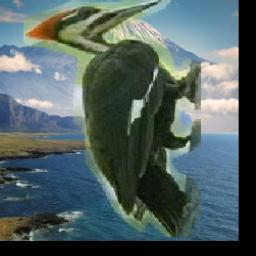Woodpecker: (23, 1, 201, 238)
